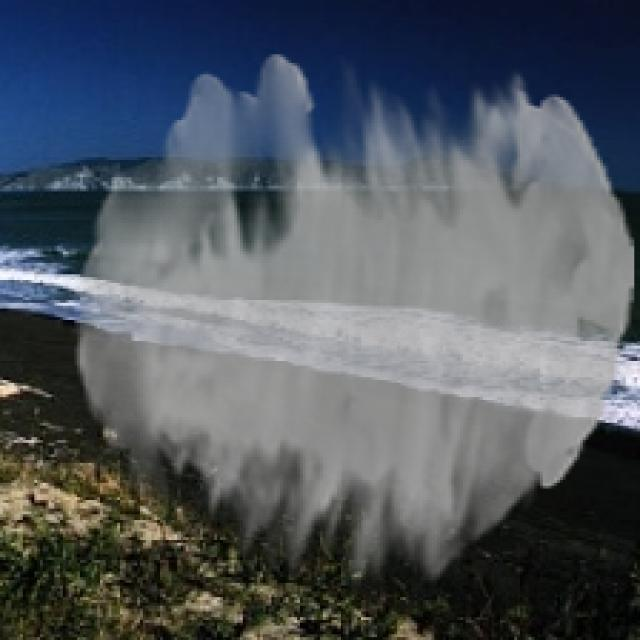Smoke: (75, 54, 634, 586)
